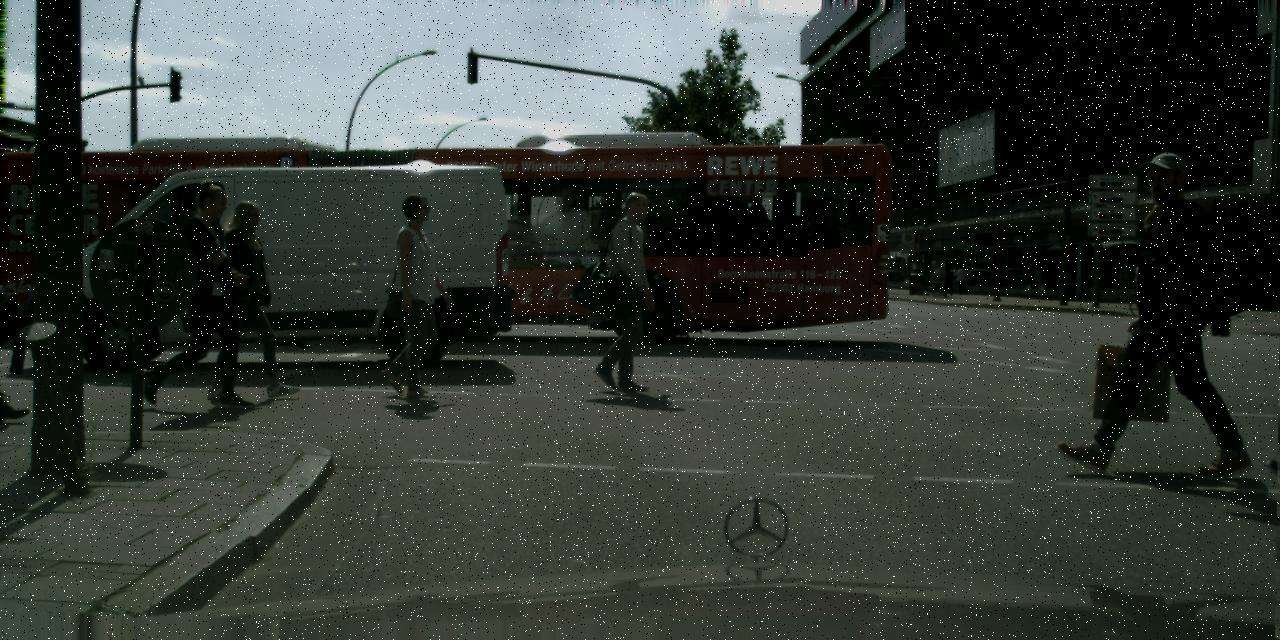ped: (1092, 154, 1224, 477), (152, 181, 244, 405), (371, 193, 453, 394), (209, 202, 290, 400), (587, 192, 667, 389), (1136, 261, 1153, 304), (955, 264, 967, 294), (942, 266, 953, 294)
